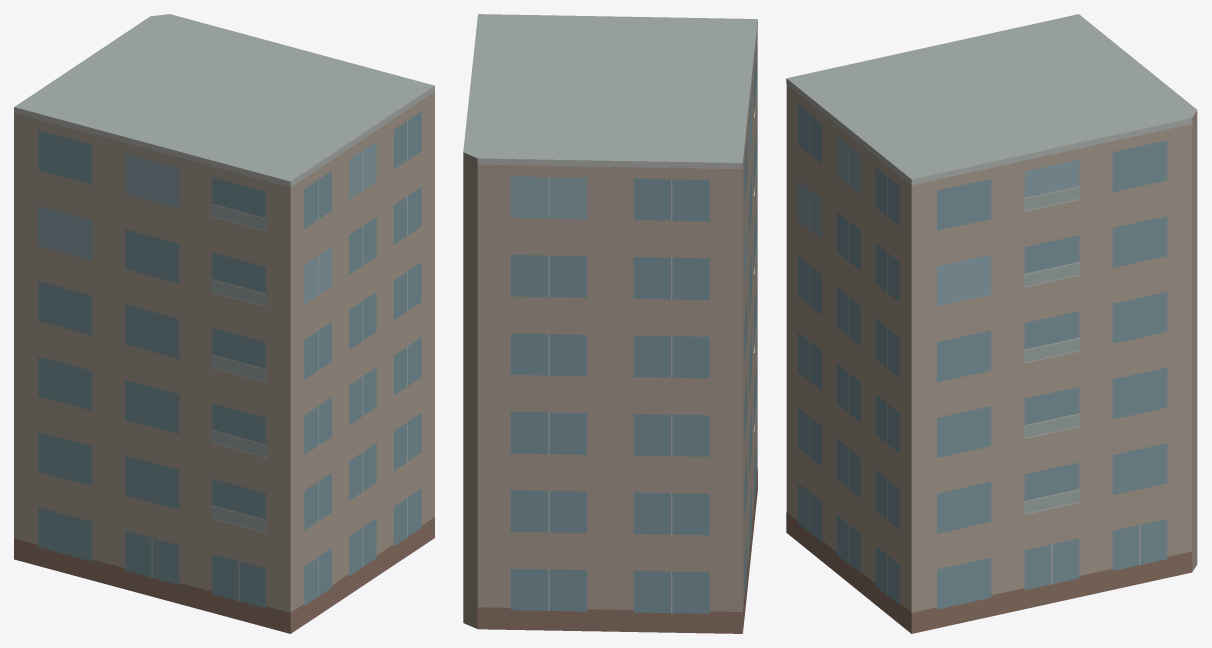
File: survey-upis-32830245.glb
3 renders of one model, left to right at view 1: azimuth 30°, elevation 25°; view 2: azimuth 150°, elevation 25°; view 3: azimuth 270°, elevation 25°, orthographic. The views are drawn at different scales.
Parts seen in each view (by area): view 1: survey-upis-32830245.tmp; view 2: survey-upis-32830245.tmp; view 3: survey-upis-32830245.tmp.
Boxes of the visible parts, x1=… form: survey-upis-32830245.tmp: x1=14, y1=14, x2=434, y2=633; survey-upis-32830245.tmp: x1=463, y1=14, x2=757, y2=633; survey-upis-32830245.tmp: x1=786, y1=14, x2=1197, y2=633.
Bounding box in the file's own units: 14.61 × 18.7 × 15.34.
